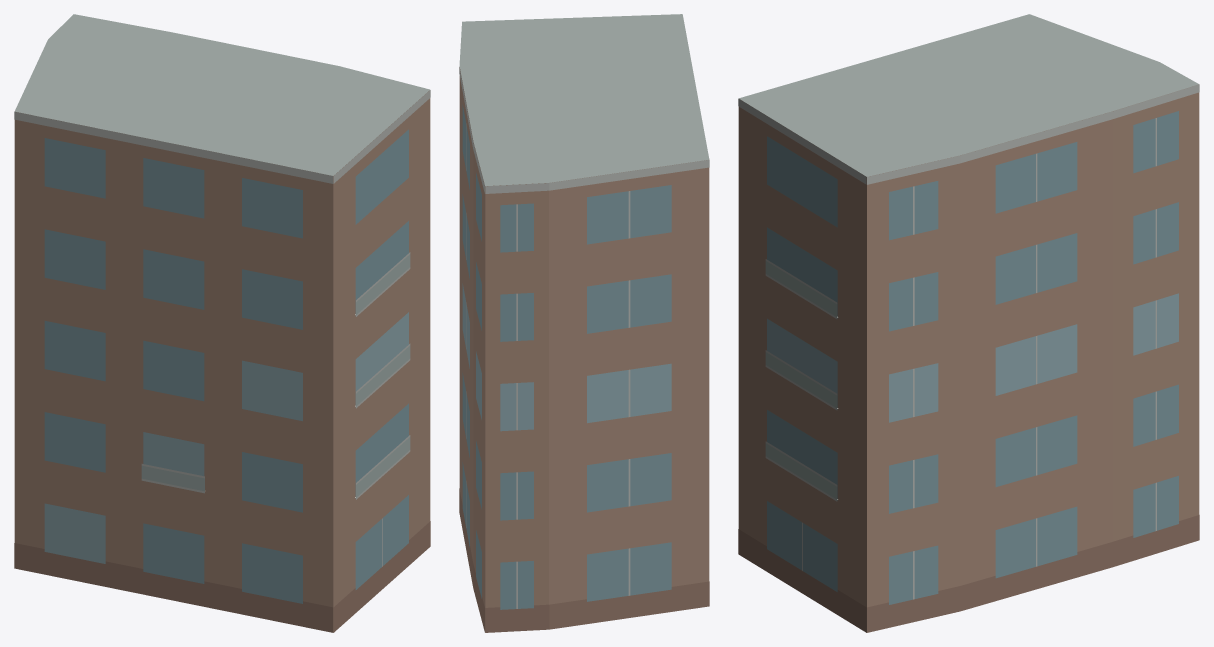
File: survey-upis-32784227.glb
3 renders of one model, left to right at view 1: azimuth 30°, elevation 25°; view 2: azimuth 150°, elevation 25°; view 3: azimuth 270°, elevation 25°, orthographic. The views are drawn at different scales.
Parts seen in each view (by area): view 1: survey-upis-32784227.tmp; view 2: survey-upis-32784227.tmp; view 3: survey-upis-32784227.tmp.
Part boxes in pixels (<box>): survey-upis-32784227.tmp: <box>14,14,430,632</box>; survey-upis-32784227.tmp: <box>459,14,709,632</box>; survey-upis-32784227.tmp: <box>738,14,1199,632</box>.
Bounding box in the file's own units: 10.66 × 13.9 × 12.74.
